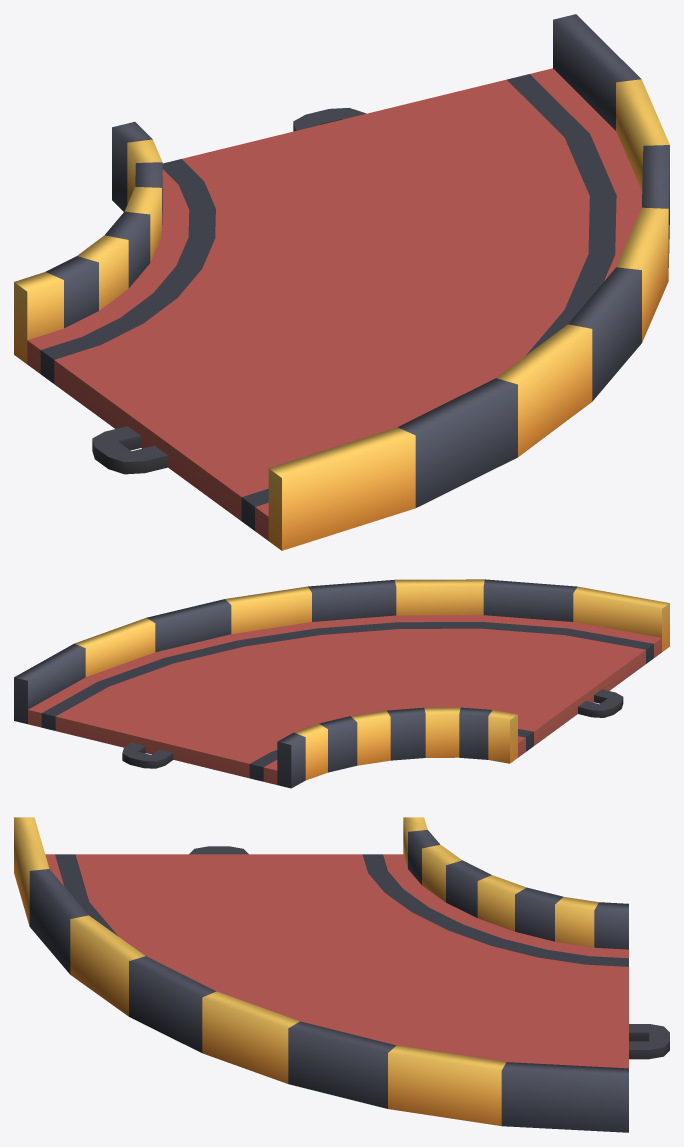
Rendered from track-road-wide-corner-small.fbx.
3 renders of one model, top to bottom at view 1: azimuth 30°, elevation 25°; view 2: azimuth 150°, elevation 25°; view 3: azimuth 270°, elevation 25°, orthographic. The views are drawn at different scales.
Parts seen in each view (by area): view 1: track-road-wide-corner-small; view 2: track-road-wide-corner-small; view 3: track-road-wide-corner-small.
Part boxes in pixels (x1=…): track-road-wide-corner-small: x1=14, y1=14, x2=669, y2=550; track-road-wide-corner-small: x1=14, y1=579, x2=669, y2=788; track-road-wide-corner-small: x1=14, y1=817, x2=669, y2=1132.
Size of the model in its own units: 320 by 30 by 320.
